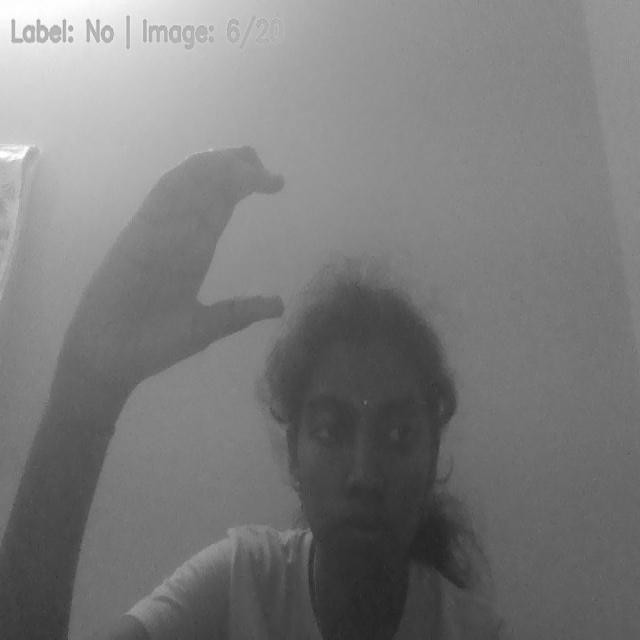No: (46, 134, 291, 436)
